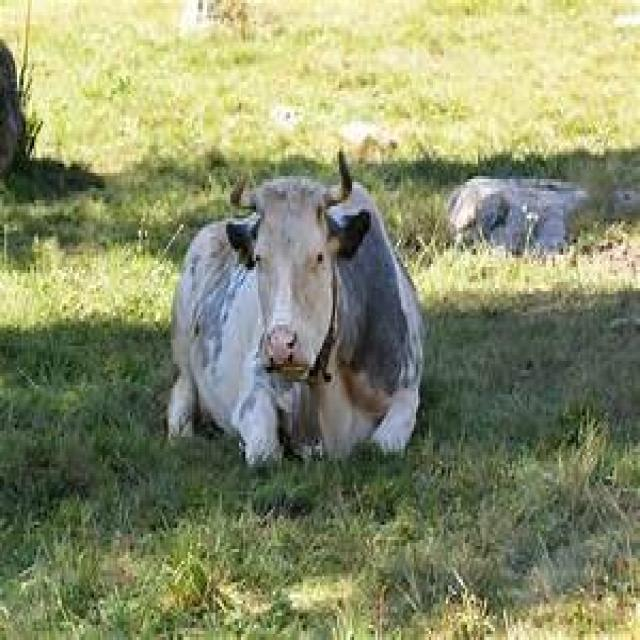animal: (164, 146, 425, 470)
